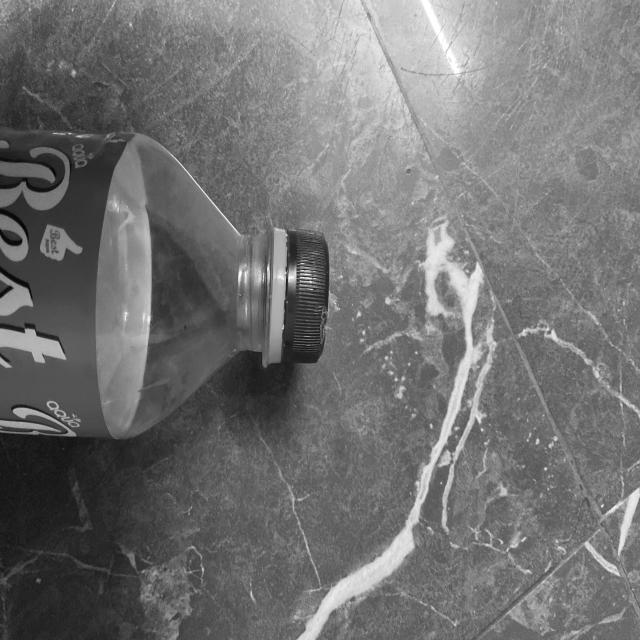Good-cap-Df0S: (264, 221, 334, 374)
